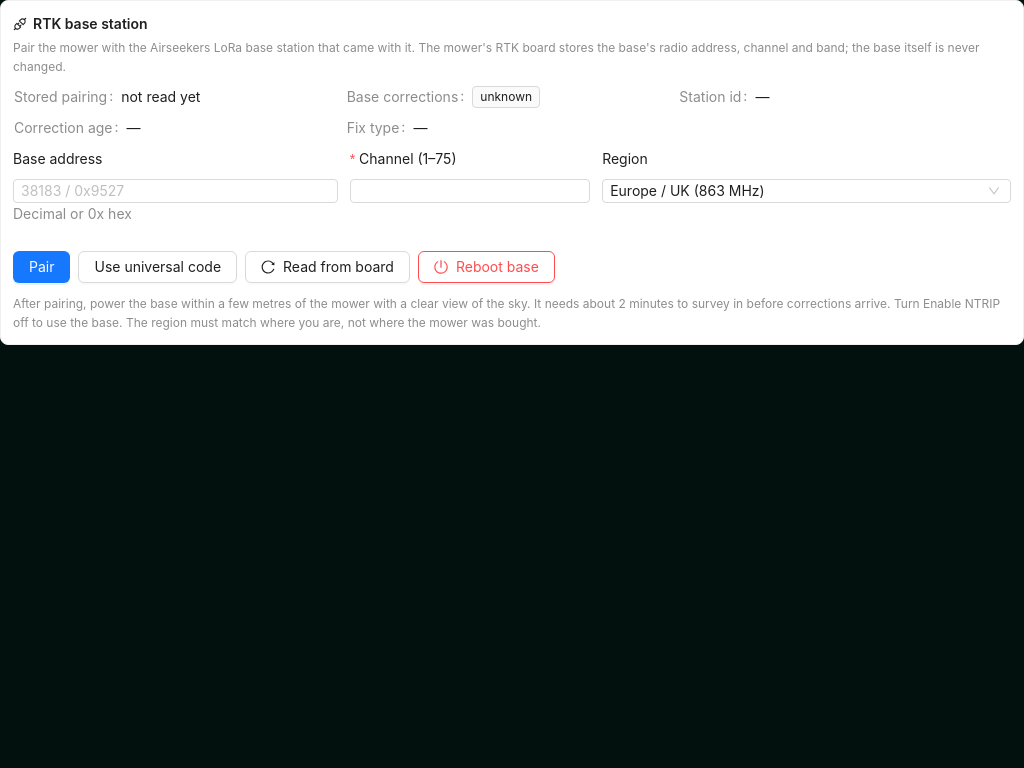
RtkBaseCard › pairs the universal code after confirmation
This screenshot has width=1024, height=768.
Click the button "Use universal code" at (158, 267), box top-left (78, 251), bottom-right (237, 283)
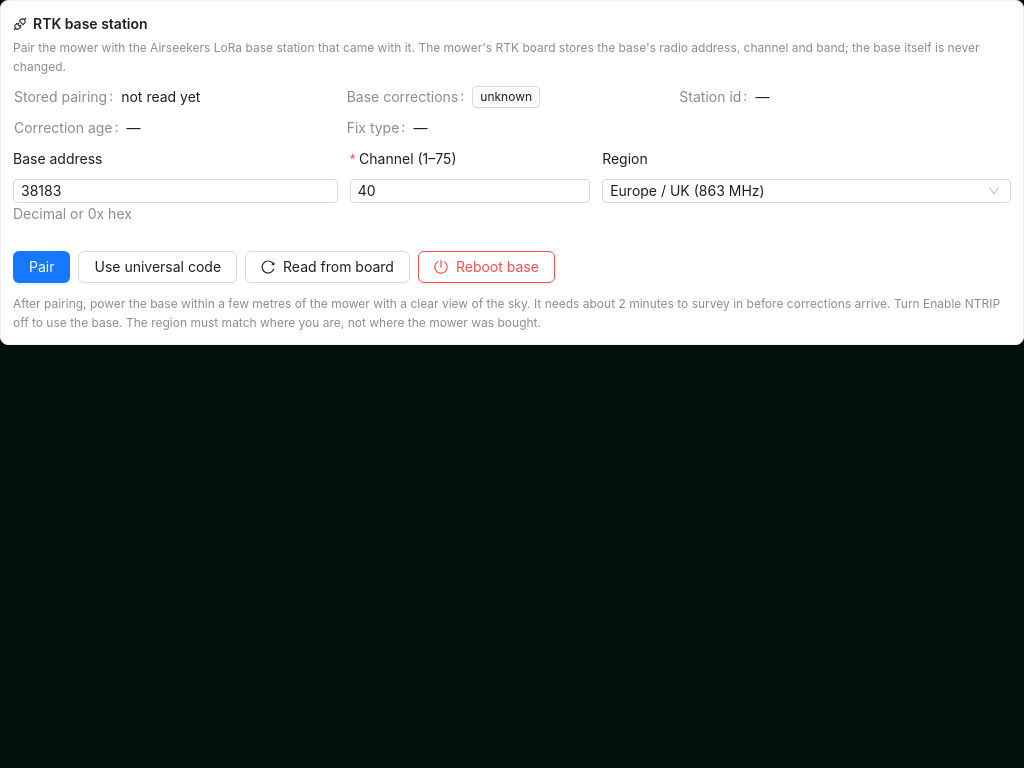
expect the field with placeholder "38183 / 0x9527" holds "38183": met, box top-left (13, 179), bottom-right (338, 203)
Click the button "Pair" at (42, 267), box top-left (13, 251), bottom-right (70, 283)
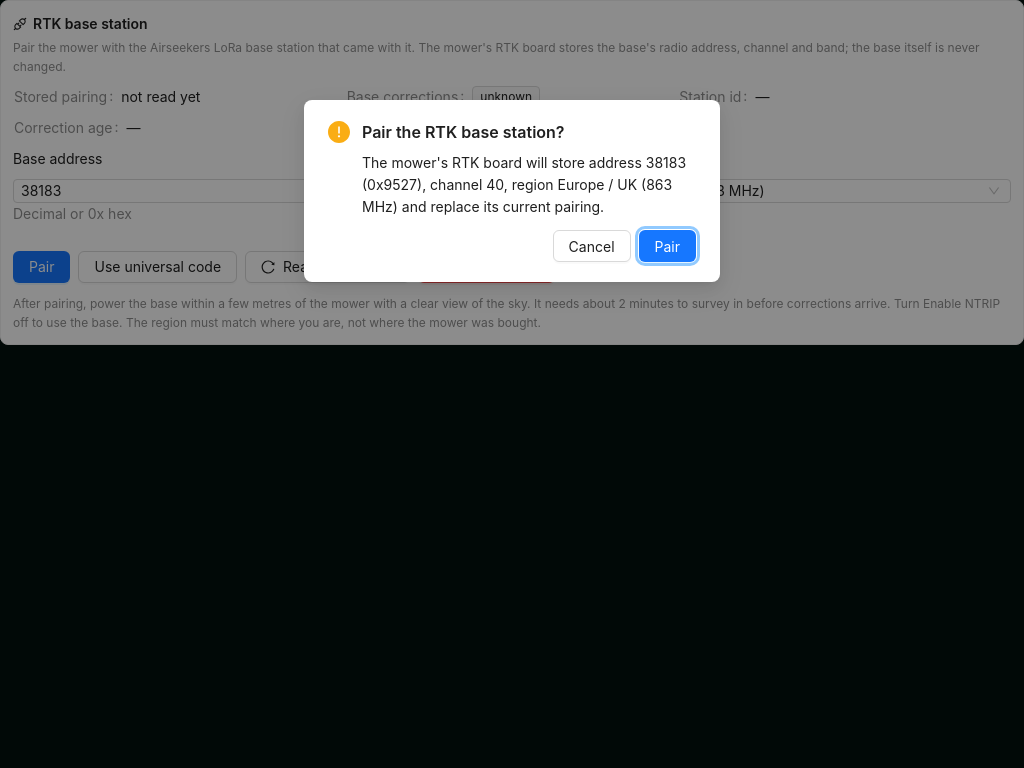
Click the button "Pair" at (667, 246), box top-left (638, 230), bottom-right (696, 262)
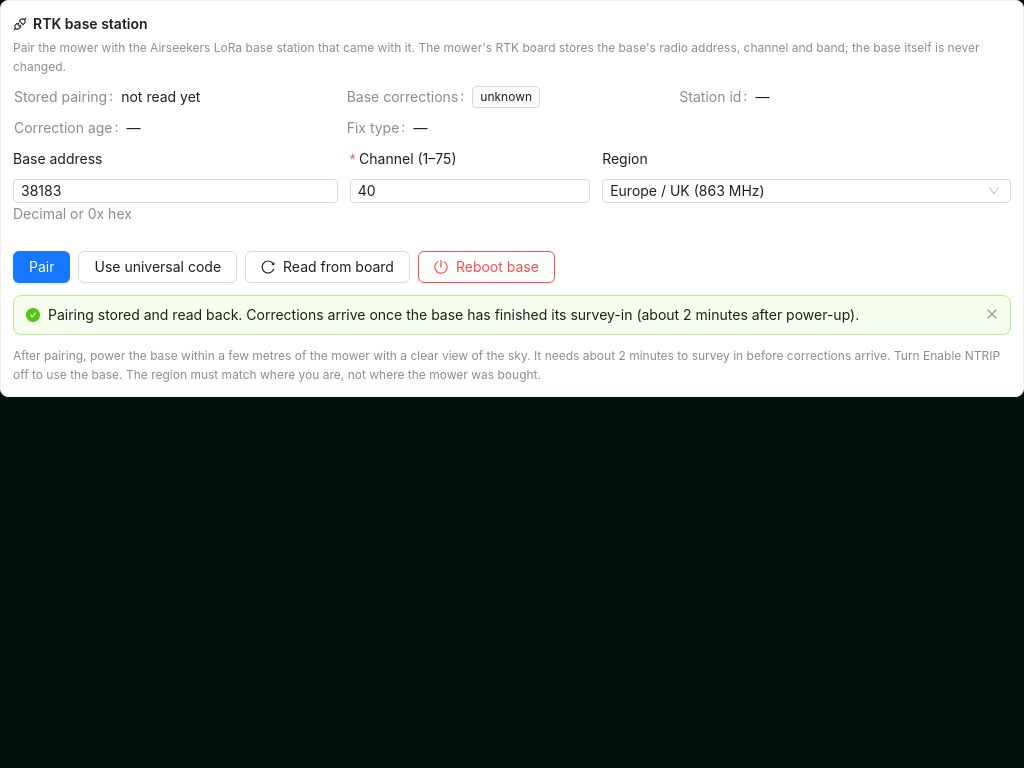
expect the text "Pairing stored and read back. Corrections arrive once the base has finished its survey-in (about 2 minutes after power-u" is shown: met, box top-left (48, 306), bottom-right (859, 323)
